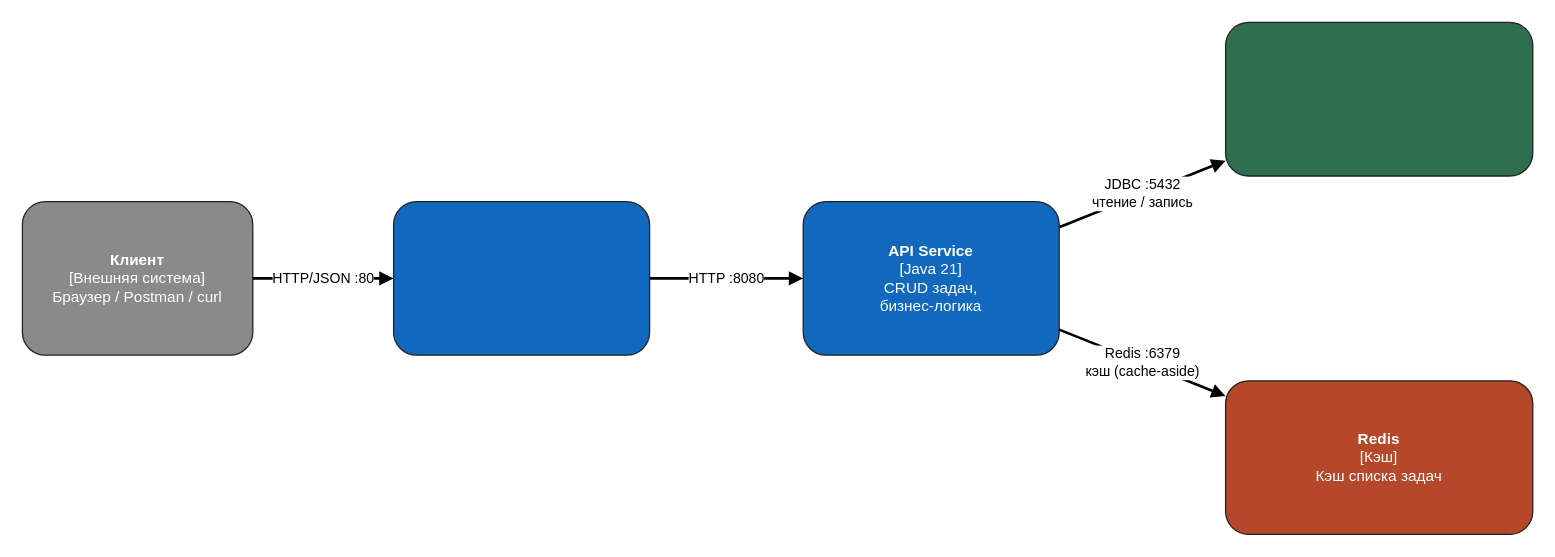
This 1555x557 diagram has some shape labels left out. The centre of each missing label's shape, as x and y in pixels:
"API Gateway [nginx] Единая точка входа, проксирует запросы" goes at pixel 521 277.
"PostgreSQL 16 [База данных] Таблица tasks, volume db_data" goes at pixel 1378 98.
